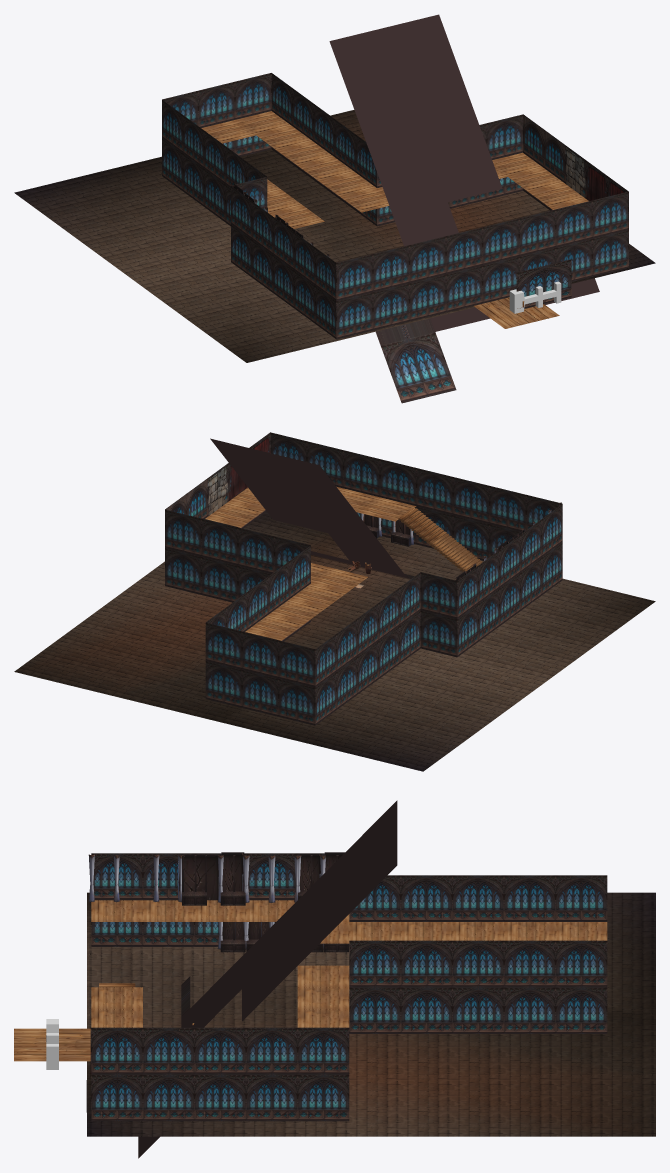
Rendered from inn_map.glb.
3 views of the same model, one above another, from view 1: azimuth 30°, elevation 25°; view 2: azimuth 150°, elevation 25°; view 3: azimuth 270°, elevation 25° (orthographic). The views are drawn at different scales.
Parts seen in each view (by area): view 1: GroundPainted, Dungeon, 1_WallWindow, Plane.034, Plane.036, Plane.022, Plane.027, Plane.056, Plane.059, Plane.003, Plane.023, Plane.024 (+52 smaller); view 2: GroundPainted, Dungeon, Plane.051, Plane.021, Plane.017, Plane.055, Plane.056, Plane.016, Plane.043, Plane.057, Plane.008, Plane.015 (+49 smaller); view 3: GroundPainted, Dungeon, Plane.070, Plane.065, Plane.068, Plane.004, Plane.005, Plane.007, Plane.038, Plane.039, Plane.041, Plane.046 (+41 smaller).
Part boxes in pixels (left/top/right/bottom): GroundPainted: left=14, top=110, right=655, bottom=362; Dungeon: left=329, top=14, right=599, bottom=403; 1_WallWindow: left=516, top=259, right=571, bottom=308; Plane.034: left=482, top=218, right=519, bottom=265; Plane.036: left=555, top=200, right=592, bottom=247; Plane.022: left=373, top=283, right=409, bottom=330; Plane.027: left=336, top=292, right=372, bottom=339; Plane.056: left=373, top=245, right=409, bottom=291; Plane.059: left=336, top=254, right=372, bottom=300; Plane.003: left=592, top=230, right=628, bottom=276; Plane.023: left=409, top=274, right=445, bottom=321; Plane.024: left=446, top=265, right=482, bottom=312; GroundPainted: left=14, top=511, right=655, bottom=771; Dungeon: left=210, top=438, right=414, bottom=578; Plane.051: left=278, top=640, right=315, bottom=687; Plane.021: left=420, top=610, right=457, bottom=657; Plane.017: left=278, top=678, right=315, bottom=725; Plane.055: left=420, top=572, right=457, bottom=618; Plane.056: left=489, top=486, right=526, bottom=531; Plane.016: left=242, top=669, right=278, bottom=716; Plane.043: left=201, top=518, right=237, bottom=565; Plane.057: left=453, top=477, right=489, bottom=523; Plane.008: left=165, top=548, right=201, bottom=594; Plane.015: left=205, top=661, right=241, bottom=707; GroundPainted: left=87, top=892, right=655, bottom=1136; Dungeon: left=86, top=800, right=397, bottom=1158; Plane.070: left=297, top=1027, right=349, bottom=1074; Plane.065: left=555, top=940, right=607, bottom=987; Plane.068: left=297, top=1074, right=349, bottom=1121; Plane.004: left=91, top=1074, right=142, bottom=1121; Plane.005: left=143, top=1074, right=194, bottom=1121; Plane.007: left=246, top=1074, right=297, bottom=1121; Plane.038: left=91, top=1027, right=142, bottom=1074; Plane.039: left=143, top=1027, right=194, bottom=1074; Plane.041: left=246, top=1027, right=297, bottom=1074; Plane.046: left=349, top=940, right=400, bottom=987.
Bounding box in the file's own units: 89.56 × 53.51 × 99.57.
Materials: 16 (16 with a texture image).
